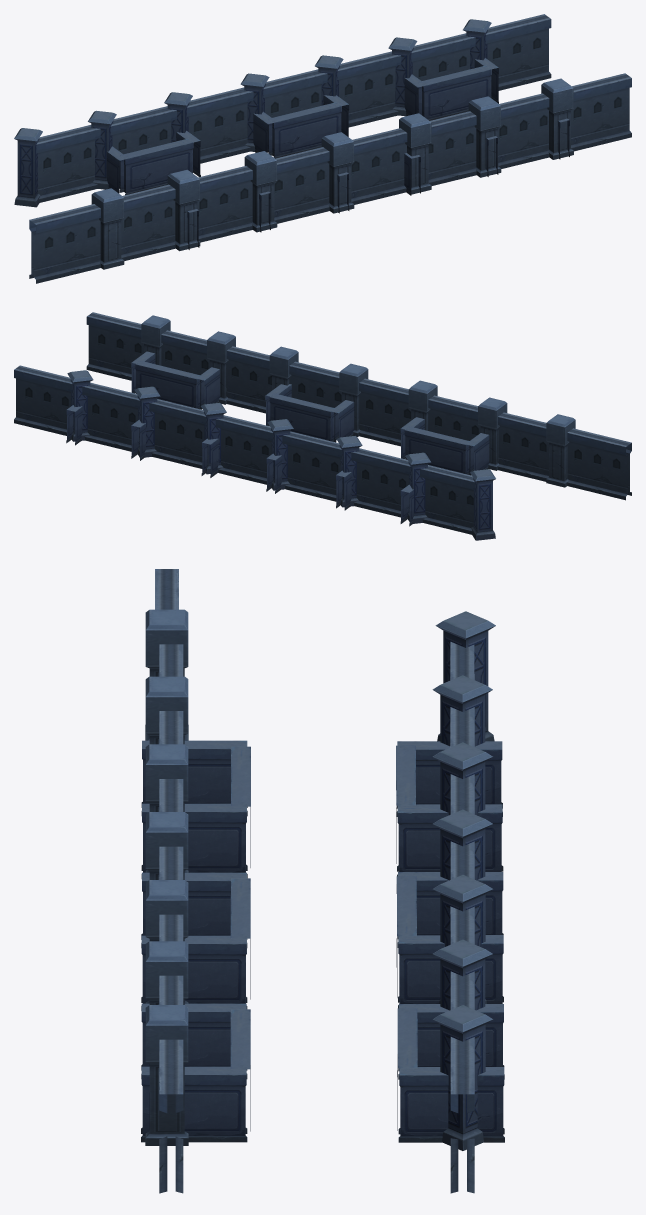
File: Area_11_3.fbx
3 renders of one model, top to bottom at view 1: azimuth 30°, elevation 25°; view 2: azimuth 150°, elevation 25°; view 3: azimuth 270°, elevation 25°, orthographic. The views are drawn at different scales.
Parts seen in each view (by area): view 1: Area_11_3; view 2: Area_11_3; view 3: Area_11_3.
Part boxes in pixels (bbox=[...]): Area_11_3: bbox=[14, 14, 631, 283]; Area_11_3: bbox=[14, 312, 631, 540]; Area_11_3: bbox=[141, 569, 504, 1193].
Size of the model in its own units: 6294 by 699 by 1842.
